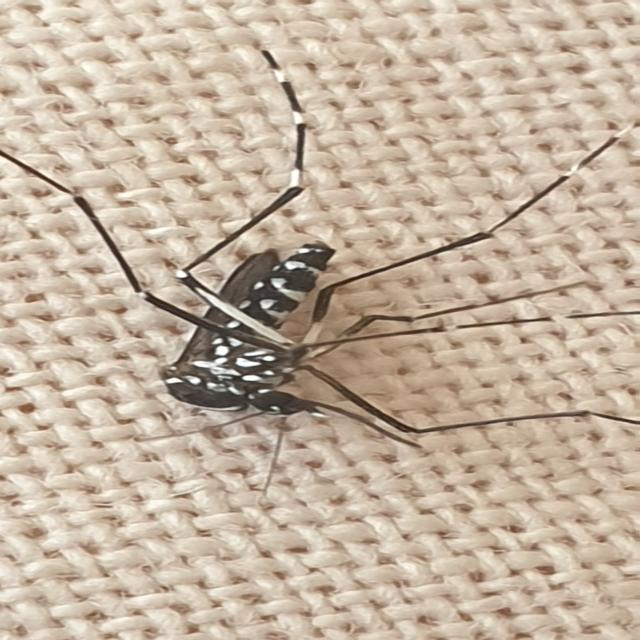albopictus: (16, 26, 640, 535)
